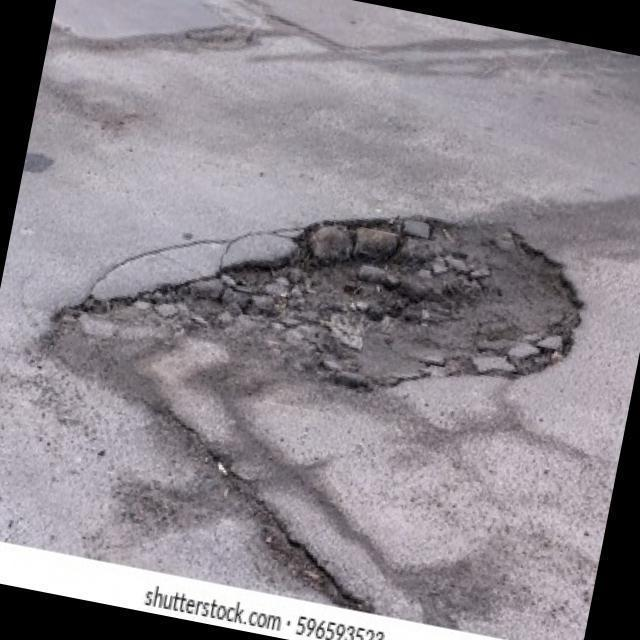pothole: (83, 148, 598, 433)
